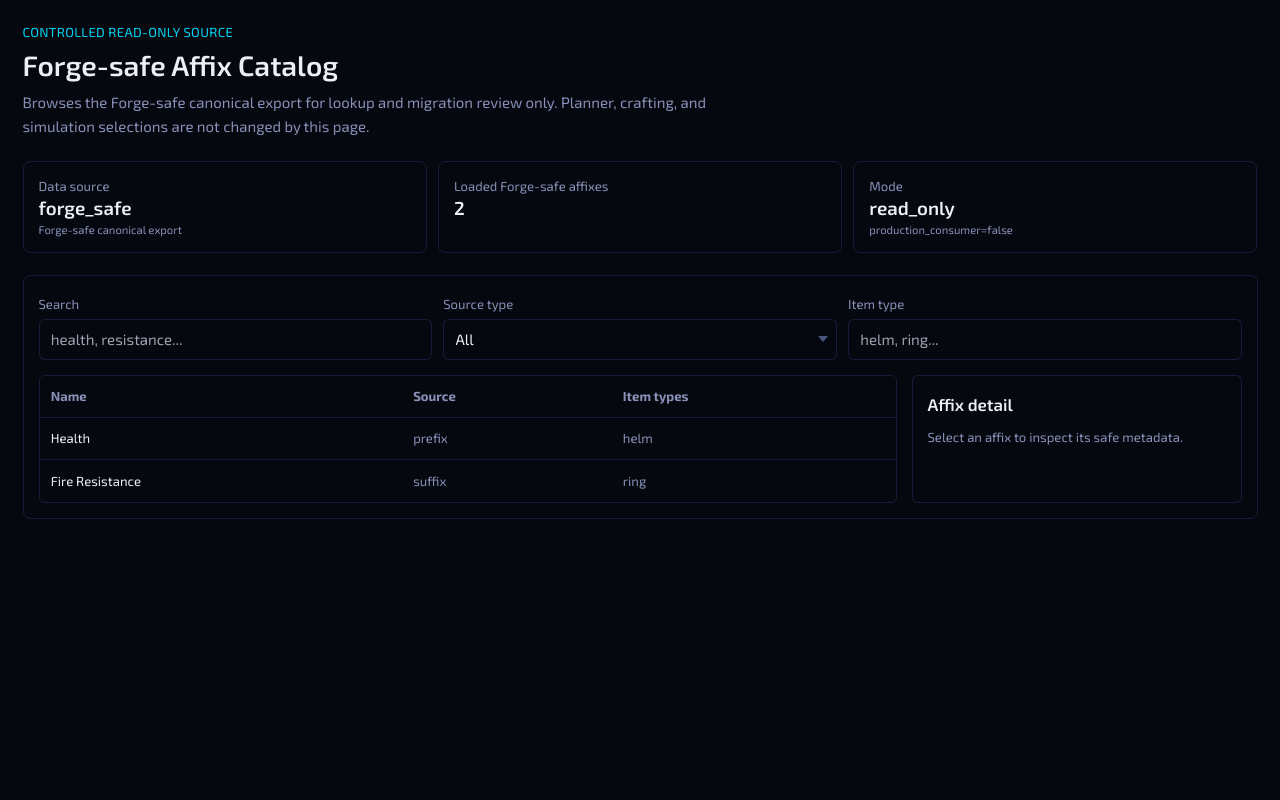
Test: AffixCatalogPage › renders affix detail when selected
Click the text "Fire Resistance" at [96, 480], box [40, 460, 402, 502]
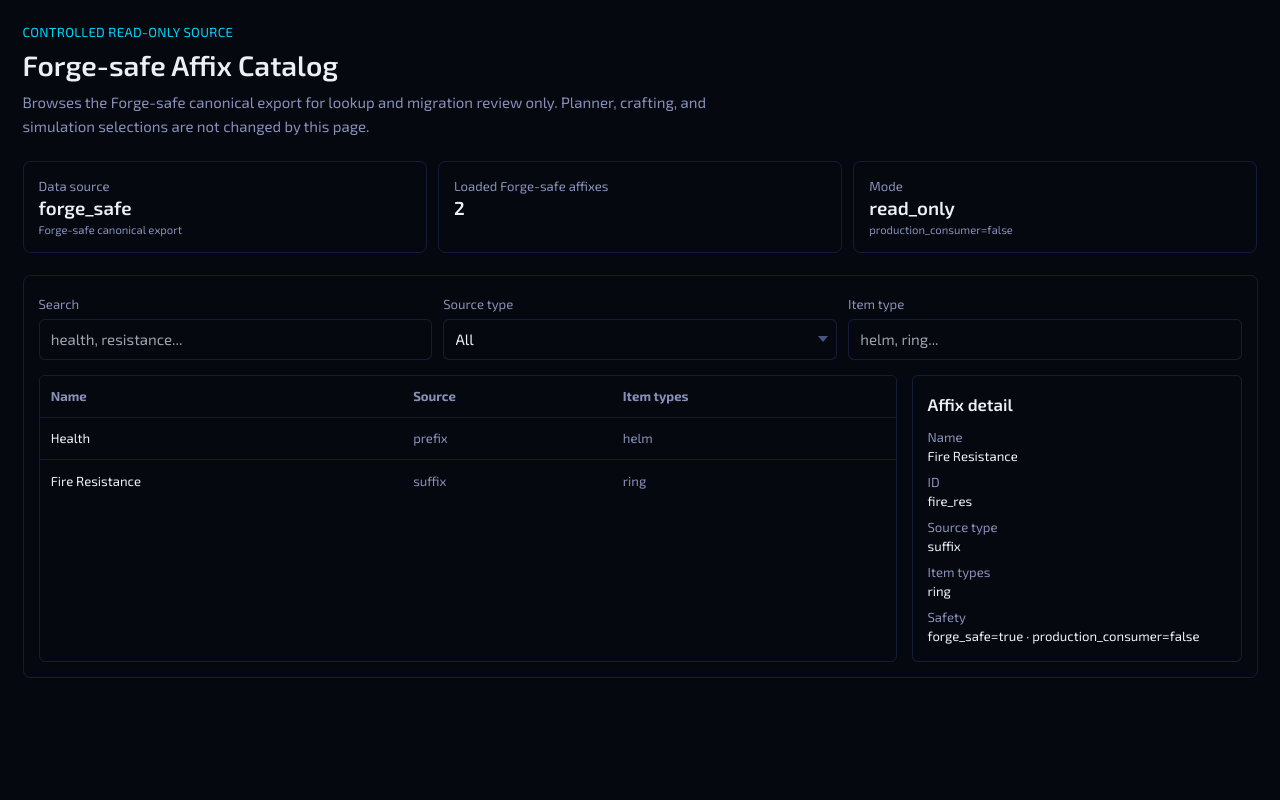
Expected: the element with test id "affix-detail" shows "fire_res", [928, 493, 972, 509]
Expected: the element with test id "affix-detail" shows "forge_safe=true", [928, 628, 1200, 644]
